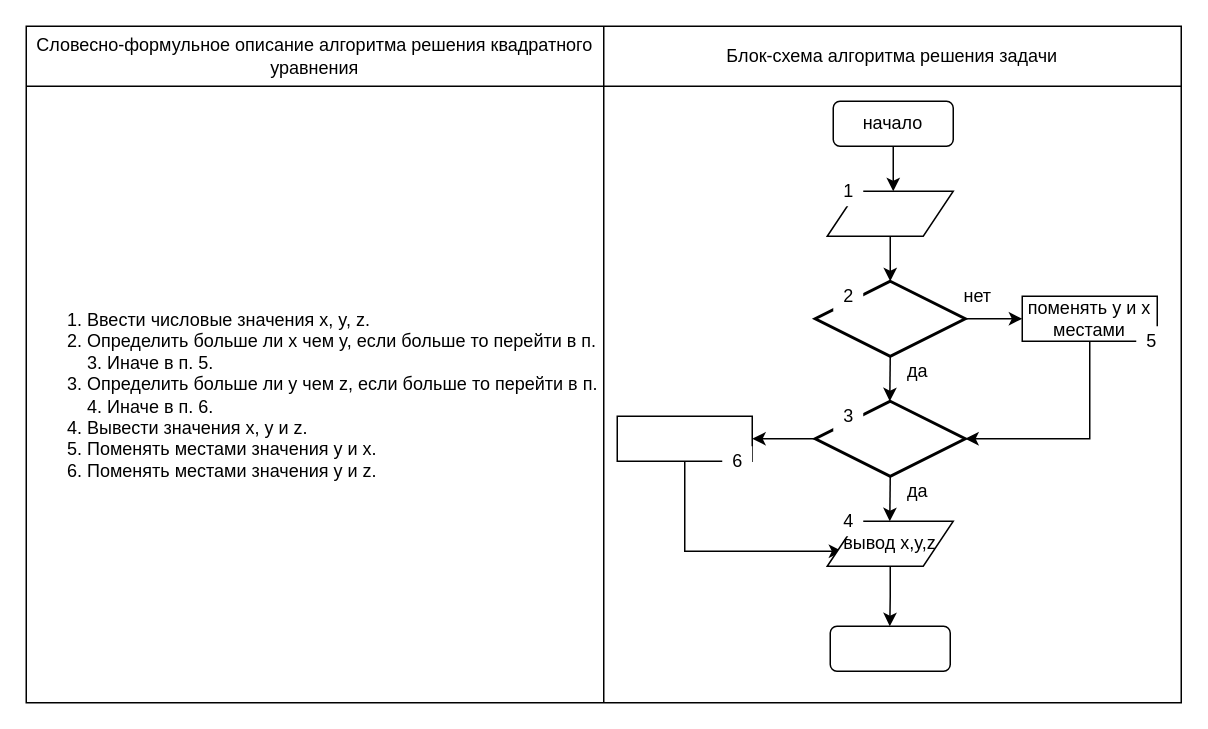
Some shapes in this 1208 by 729 pixel diagram are drawn without their labels. The shapes that lost their labels are listed below. From the top down, each one's box as (x1, y1, x2, y2) in pixels, then its label:
(826, 190, 953, 236): ввод x,y,z
(813, 279, 966, 357): x>=y
(616, 415, 752, 461): поменять y и z местами
(813, 399, 966, 477): y>=z
(829, 625, 950, 671): конец
